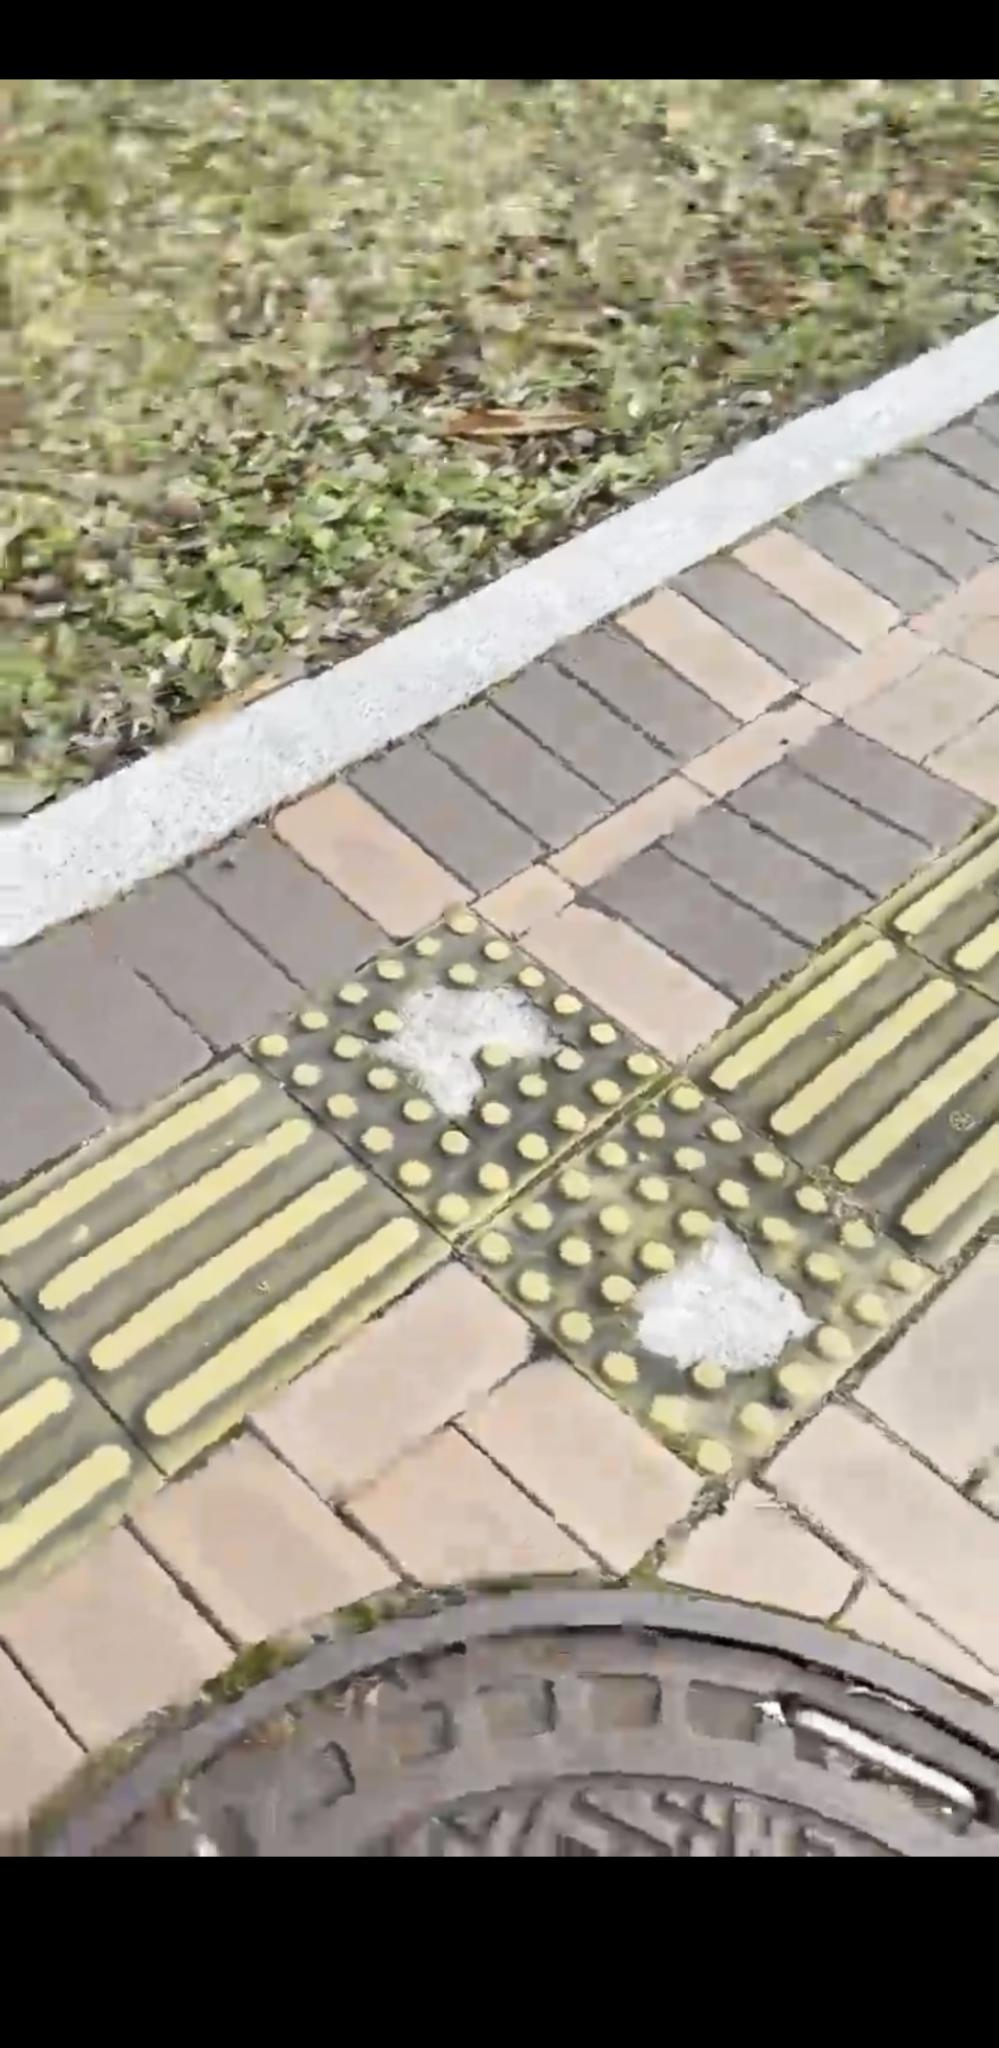Stop block broken: (456, 1078, 943, 1486), (244, 906, 669, 1245)
